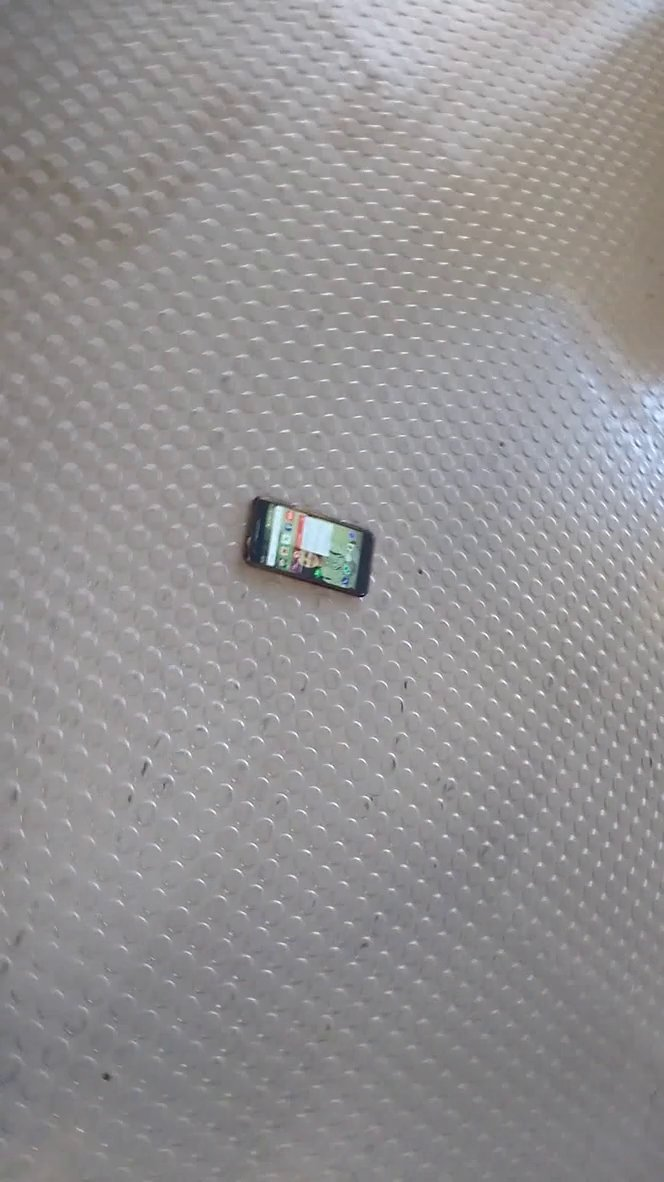phone: (234, 486, 385, 606)
